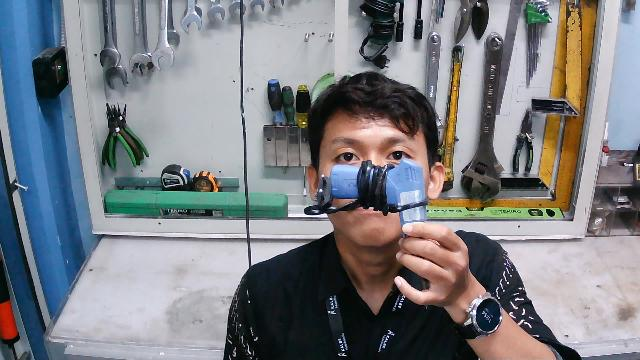solder_electrical: (303, 161, 429, 304)
